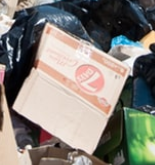garbage: (1, 3, 154, 164)
